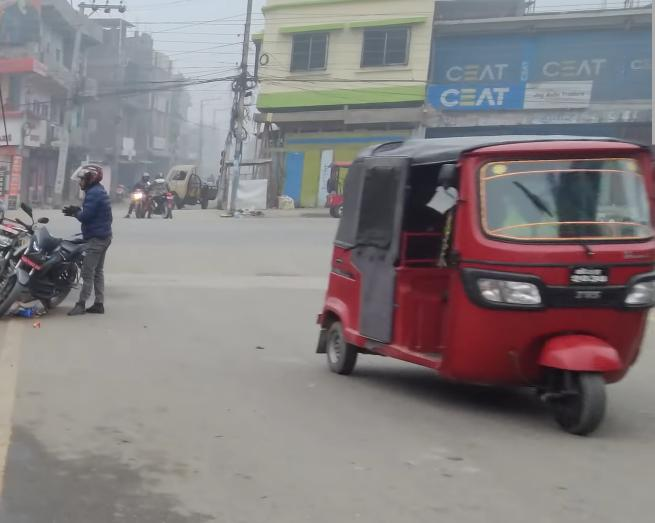auto_rickshaw: (314, 132, 655, 436)
